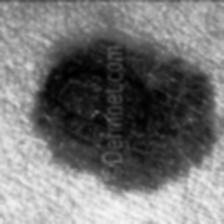Potentially Malignant Skin Tumors: (36, 38, 212, 190)
